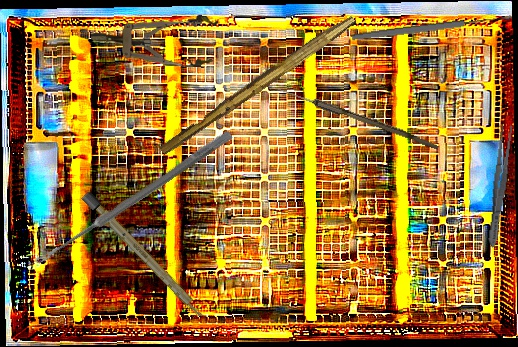Dressing Forceps: (484, 122, 515, 249)
Scalpel Handle: (158, 9, 357, 160), (81, 190, 209, 323)
Speculum: (89, 9, 219, 69)
Surgical Spoon: (33, 128, 234, 269), (268, 83, 441, 150), (350, 13, 514, 42)
